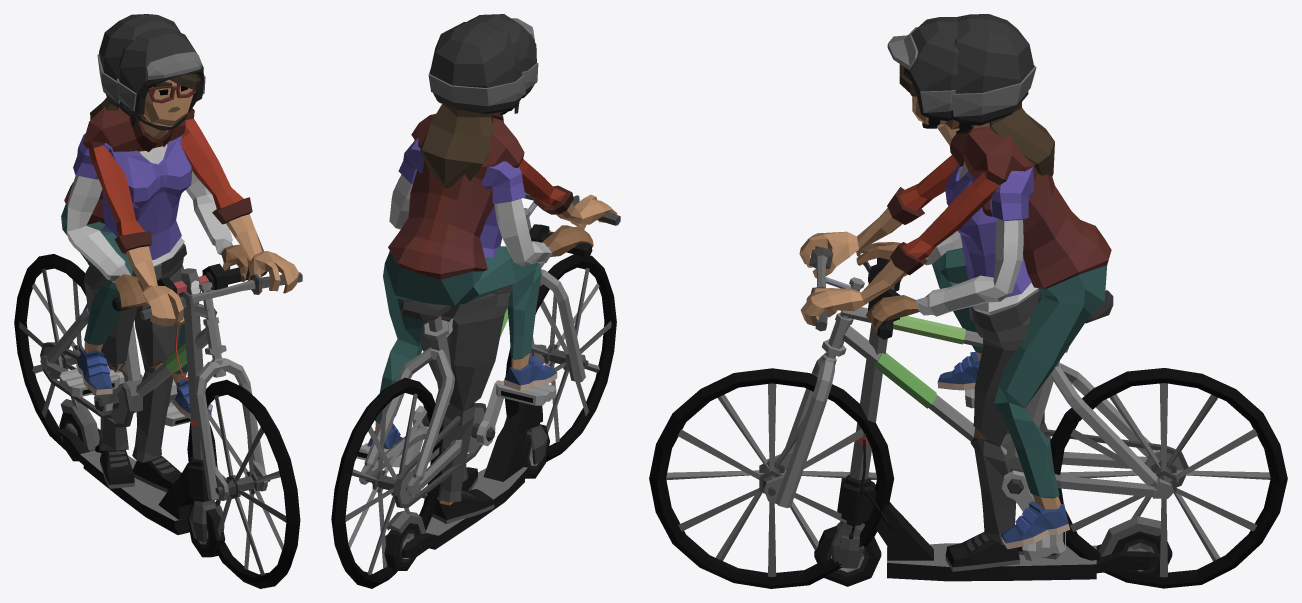
File: micro-mobility-devices_v01.glb
3 renders of one model, left to right at view 1: azimuth 30°, elevation 25°; view 2: azimuth 150°, elevation 25°; view 3: azimuth 270°, elevation 25°, orthographic. The views are drawn at different scales.
Parts seen in each view (by area): view 1: Bicycle_1, ElectricScooter_1; view 2: Bicycle_1, ElectricScooter_1; view 3: Bicycle_1, ElectricScooter_1.
Part boxes in pixels (x1,y1,x2,y2): Bicycle_1: [14, 28, 302, 588]; ElectricScooter_1: [57, 14, 266, 557]; Bicycle_1: [331, 14, 620, 588]; ElectricScooter_1: [384, 21, 593, 570]; Bicycle_1: [649, 17, 1287, 588]; ElectricScooter_1: [814, 14, 1172, 586].
Bounding box in the file's own units: 0.6885 × 1.98 × 2.02.
Materials: 1 (1 with a texture image).
